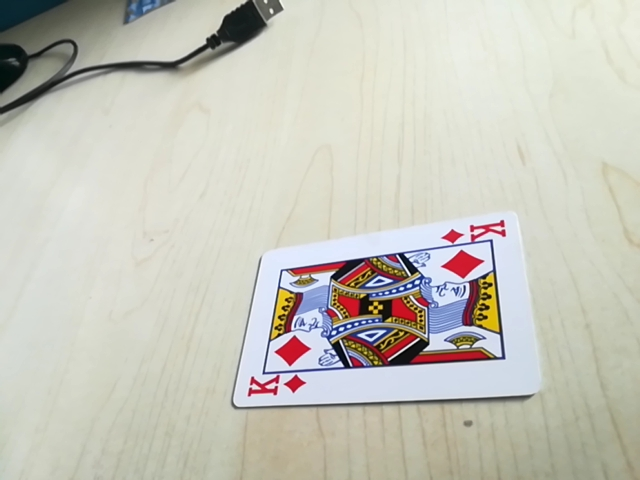fk k: (440, 218, 511, 248), (242, 370, 305, 403)
